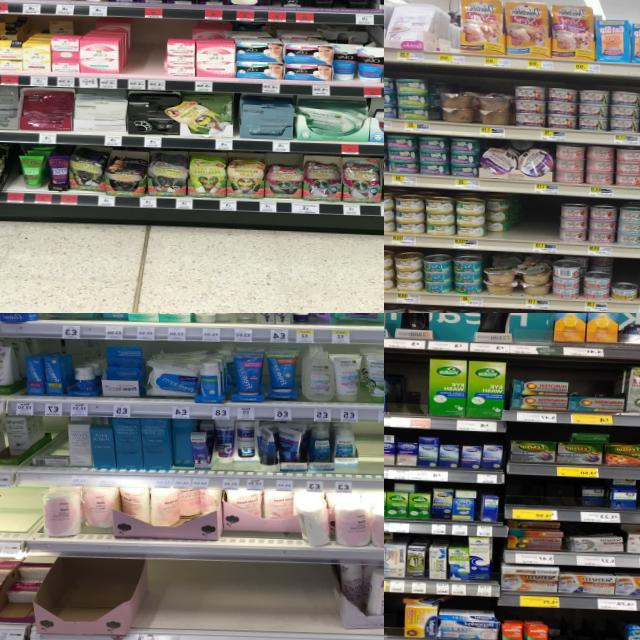100% O.O.S: (146, 559, 325, 640), (0, 486, 38, 553), (359, 424, 384, 491)
100- O.O.S: (384, 354, 428, 427), (504, 476, 572, 522), (521, 195, 558, 252), (510, 313, 550, 354), (429, 313, 471, 350), (546, 612, 600, 640), (126, 26, 146, 88), (147, 24, 164, 91), (384, 602, 404, 640), (600, 613, 623, 640), (7, 163, 20, 203)
